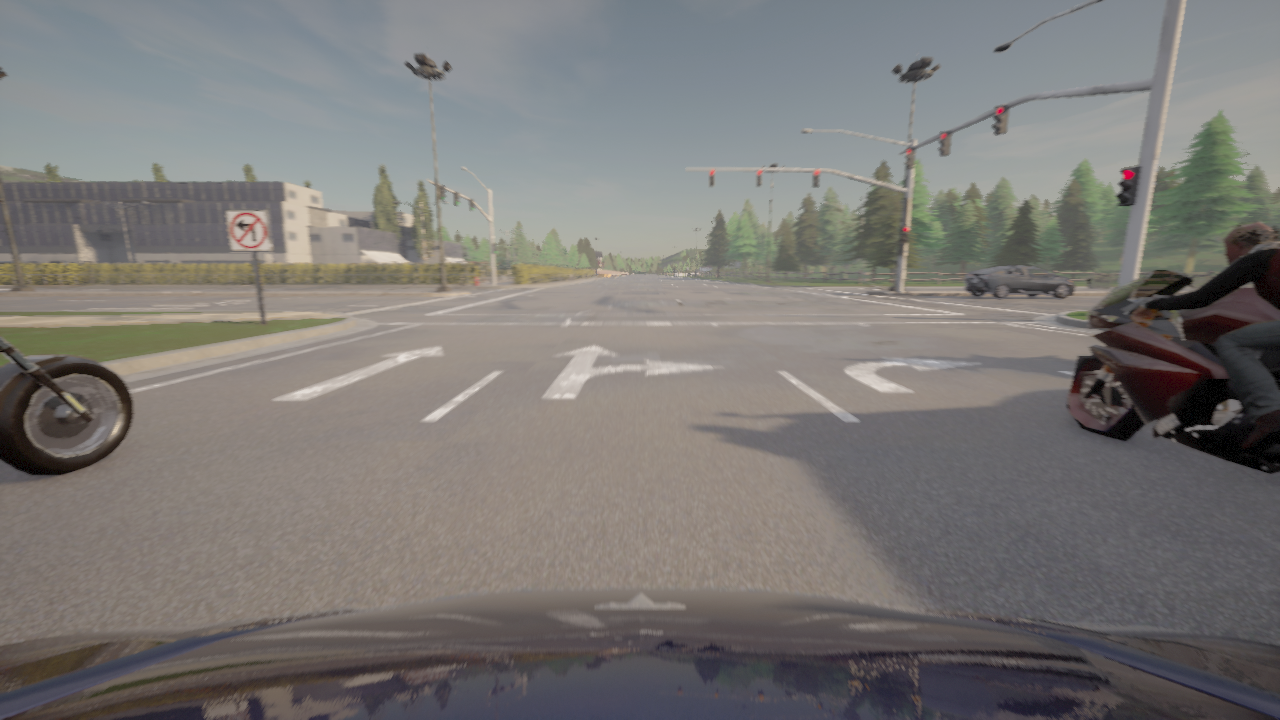cyclist: (0, 588, 1279, 719), (1065, 269, 1279, 474), (965, 267, 1073, 298)
